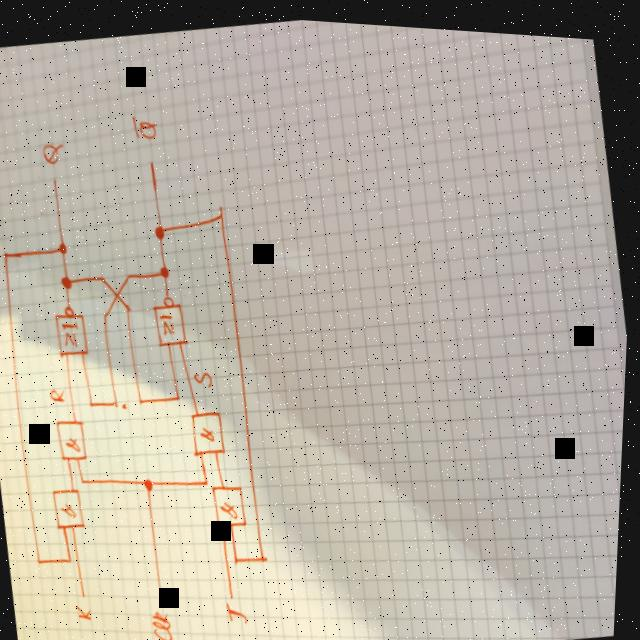crossover: (113, 285, 126, 301)
junction: (63, 272, 77, 291), (155, 221, 169, 239), (161, 262, 173, 278), (147, 475, 159, 490), (59, 240, 71, 254), (3, 249, 13, 261), (39, 554, 49, 566), (100, 270, 110, 282), (218, 206, 228, 218), (263, 549, 273, 560), (126, 301, 135, 312), (127, 268, 135, 280), (237, 550, 245, 561), (71, 553, 79, 564), (116, 396, 124, 407), (207, 474, 214, 485), (91, 398, 99, 407), (104, 309, 111, 319), (178, 390, 185, 399), (141, 394, 148, 403), (84, 475, 91, 484)
terminal: (148, 155, 158, 168), (51, 173, 61, 184), (163, 589, 170, 600), (85, 589, 93, 598), (234, 589, 241, 596)
text: (129, 108, 162, 142), (153, 605, 182, 640), (40, 137, 69, 167), (230, 593, 256, 624), (195, 365, 219, 389), (78, 599, 100, 623), (52, 384, 70, 404)
